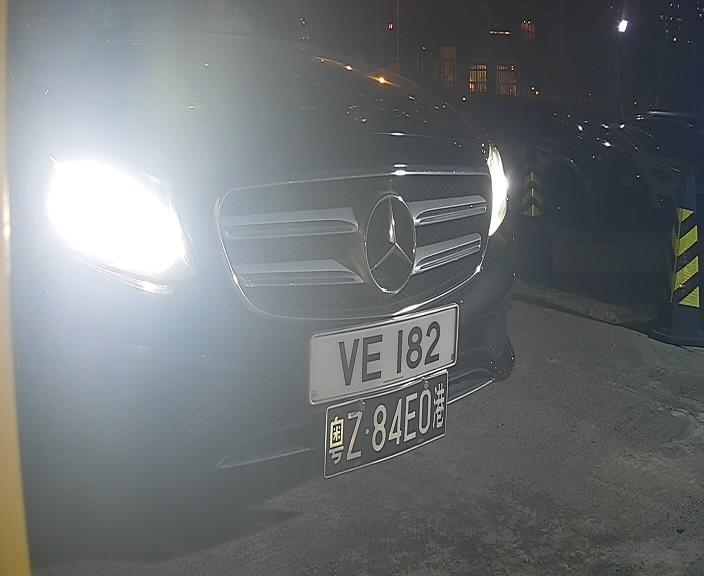privatecar: (16, 3, 538, 543)
